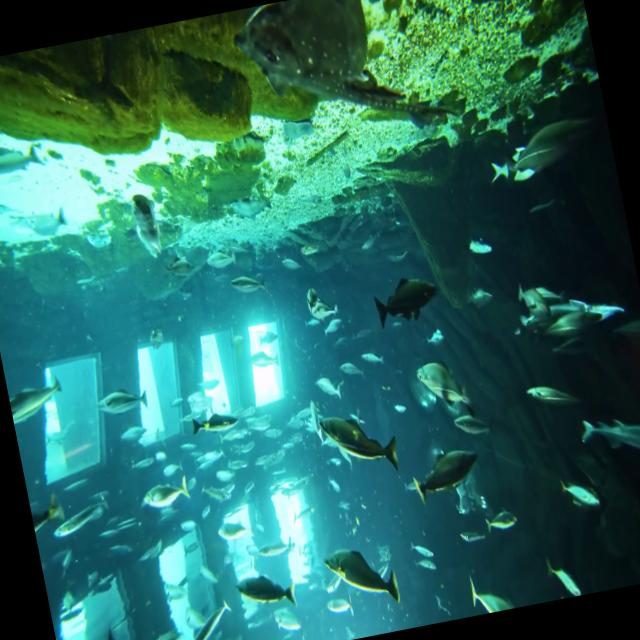fish: (316, 399, 401, 482), (322, 538, 401, 614), (368, 266, 445, 334), (406, 440, 484, 507), (578, 401, 640, 476), (234, 567, 298, 619), (97, 382, 152, 422)
